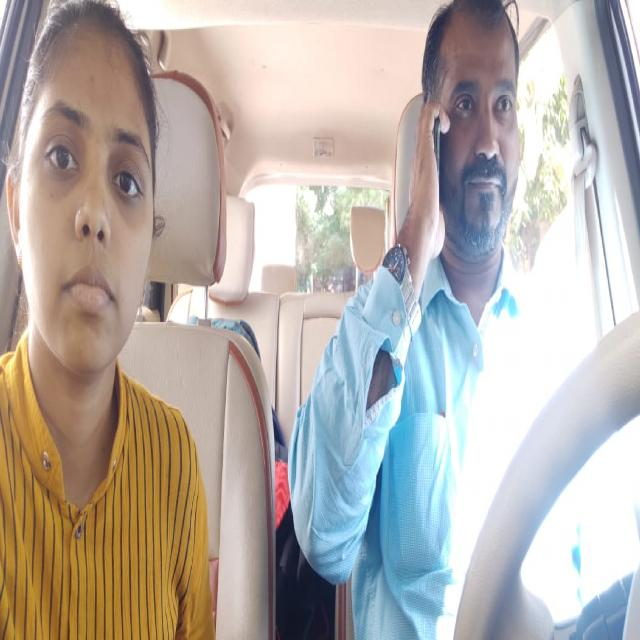mobile: (419, 96, 446, 229)
person: (2, 2, 170, 397), (422, 0, 530, 273)
